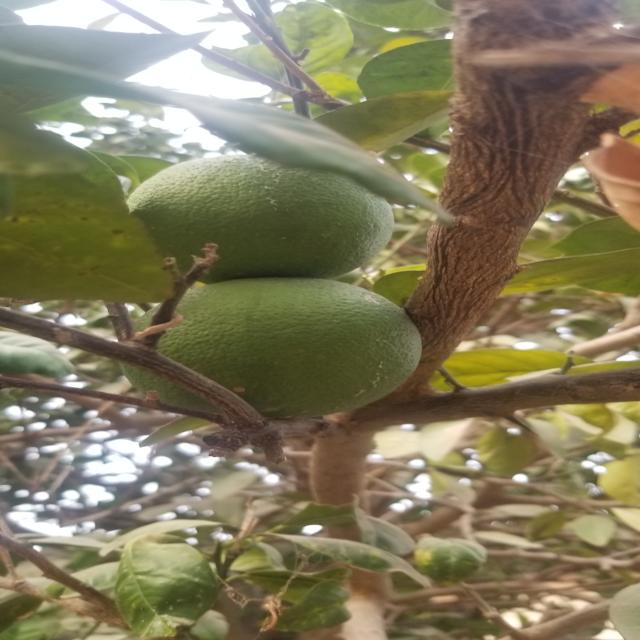Unripe: (137, 274, 428, 426), (130, 141, 392, 273)
